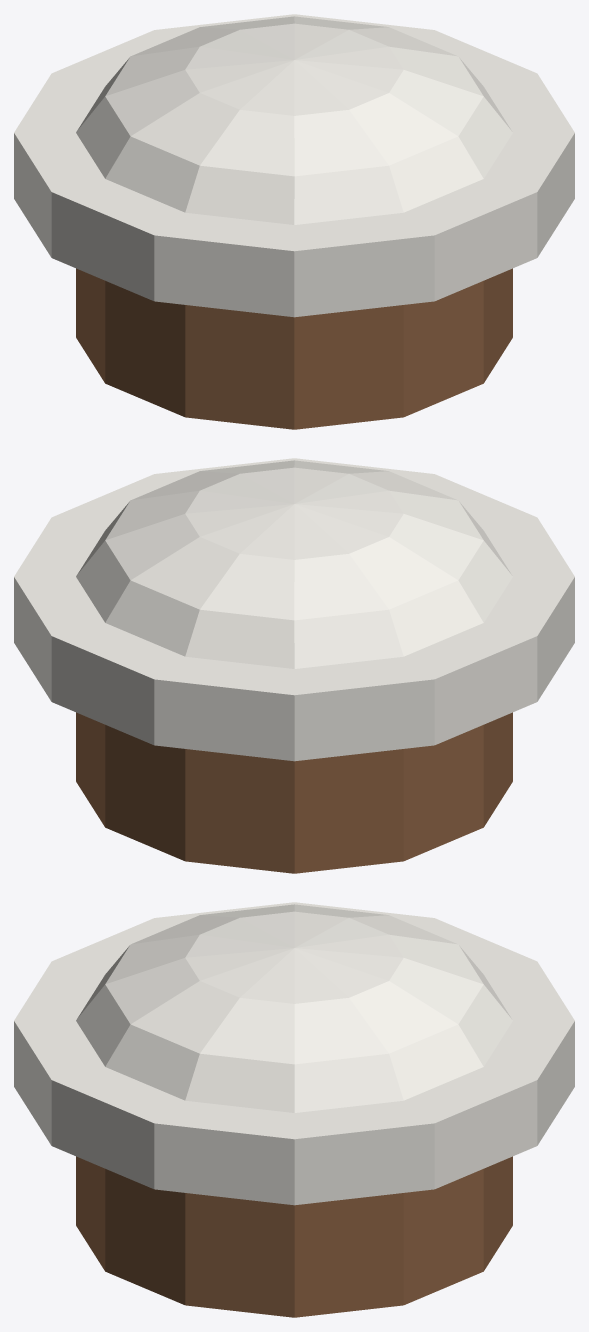
File: jar_snowglobe_cork.obj
The picture shows the model from 3 angles, top to bottom: view 1: azimuth 30°, elevation 25°; view 2: azimuth 150°, elevation 25°; view 3: azimuth 270°, elevation 25°; orthographic projection.
Visible parts, largest first — view 1: jar_snowglobe_cork; view 2: jar_snowglobe_cork; view 3: jar_snowglobe_cork.
Part boxes in pixels (x1,y1,x2,y2): jar_snowglobe_cork: (14, 14, 574, 429); jar_snowglobe_cork: (14, 458, 574, 873); jar_snowglobe_cork: (14, 902, 574, 1317).
Size of the model in its own units: 0.077 by 0.042 by 0.077.
1 material, 1 textured.
